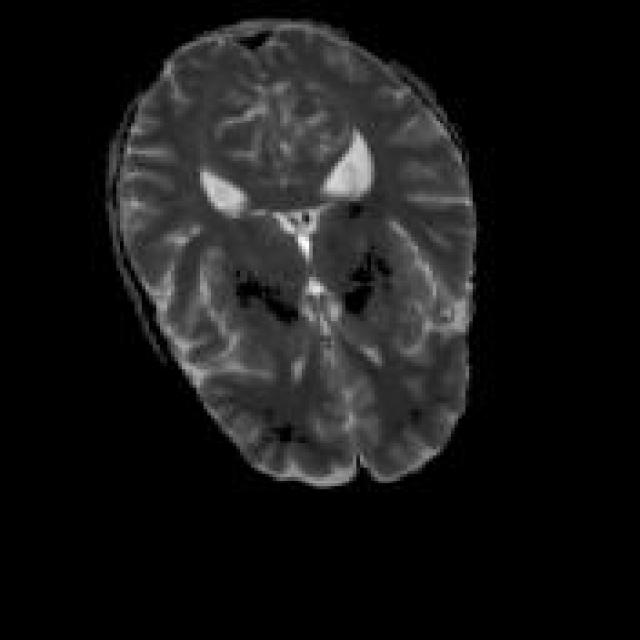parkinson: (102, 16, 480, 490)
